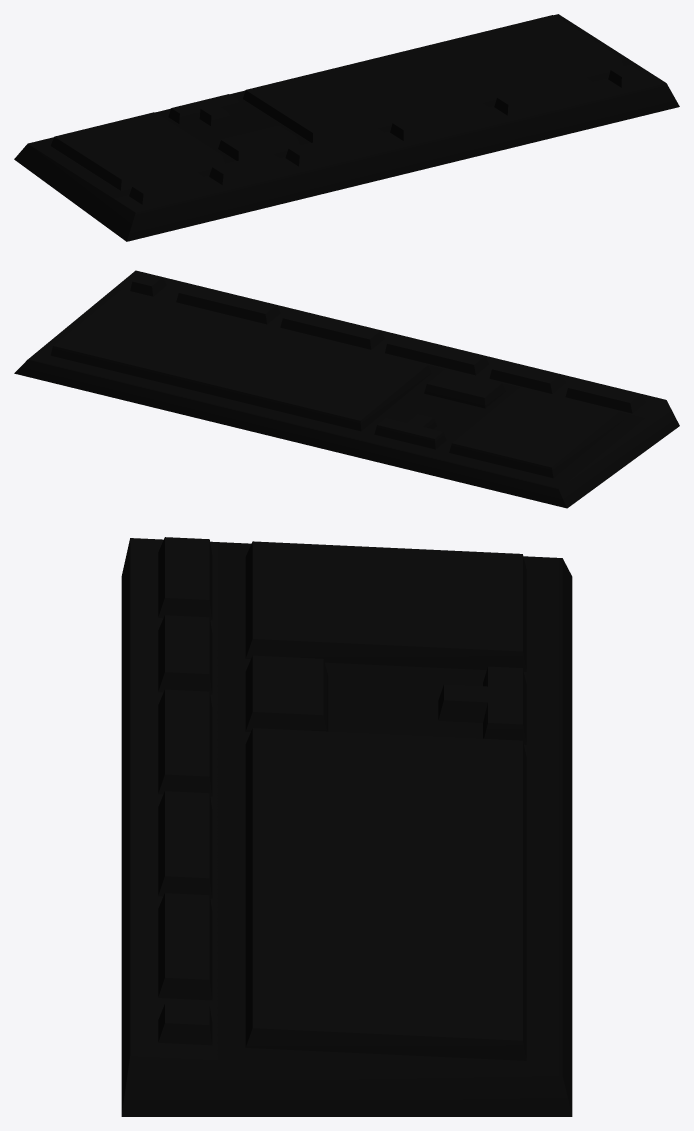
Rendered from Computer_Keyboard.fbx.
3 renders of one model, top to bottom at view 1: azimuth 30°, elevation 25°; view 2: azimuth 150°, elevation 25°; view 3: azimuth 270°, elevation 25°, orthographic. The views are drawn at different scales.
Parts seen in each view (by area): view 1: Keyboard; view 2: Keyboard; view 3: Keyboard.
Part boxes in pixels (x1,y1,x2,y2): Keyboard: (14, 14, 679, 241); Keyboard: (14, 270, 679, 508); Keyboard: (121, 537, 572, 1116).
Size of the model in its own units: 45 by 2.59 by 15.88.
